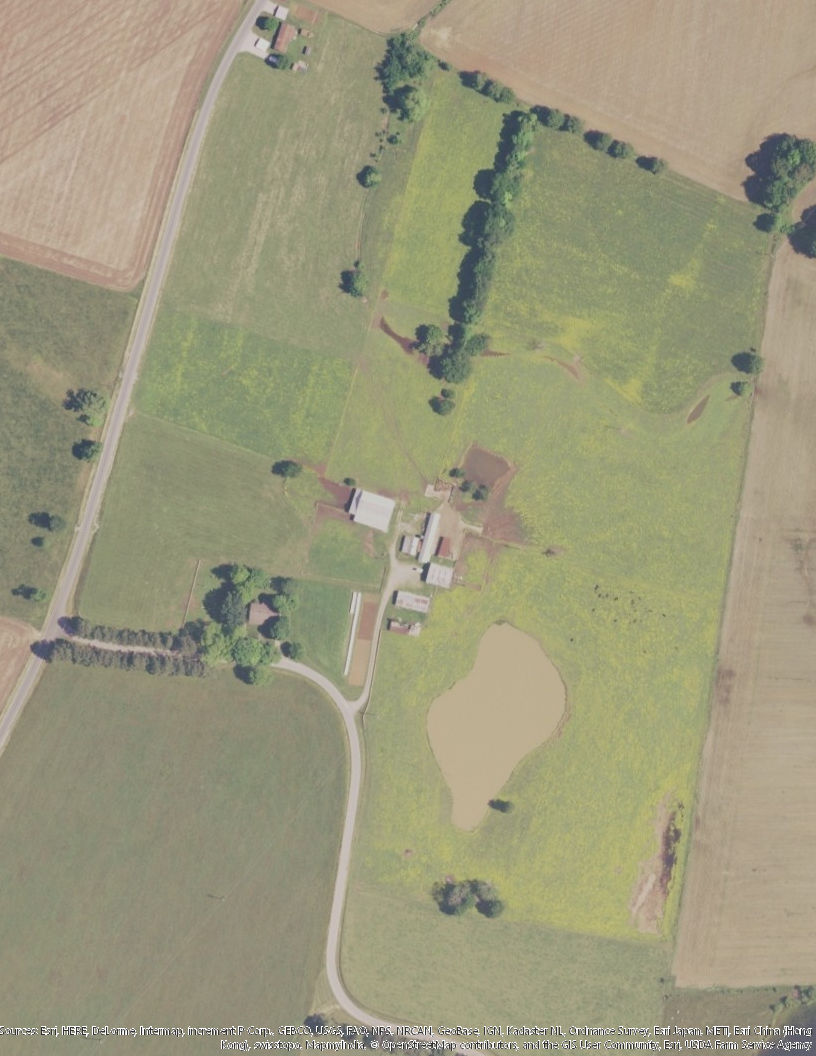cafo: (415, 510, 444, 565), (391, 586, 437, 618)
